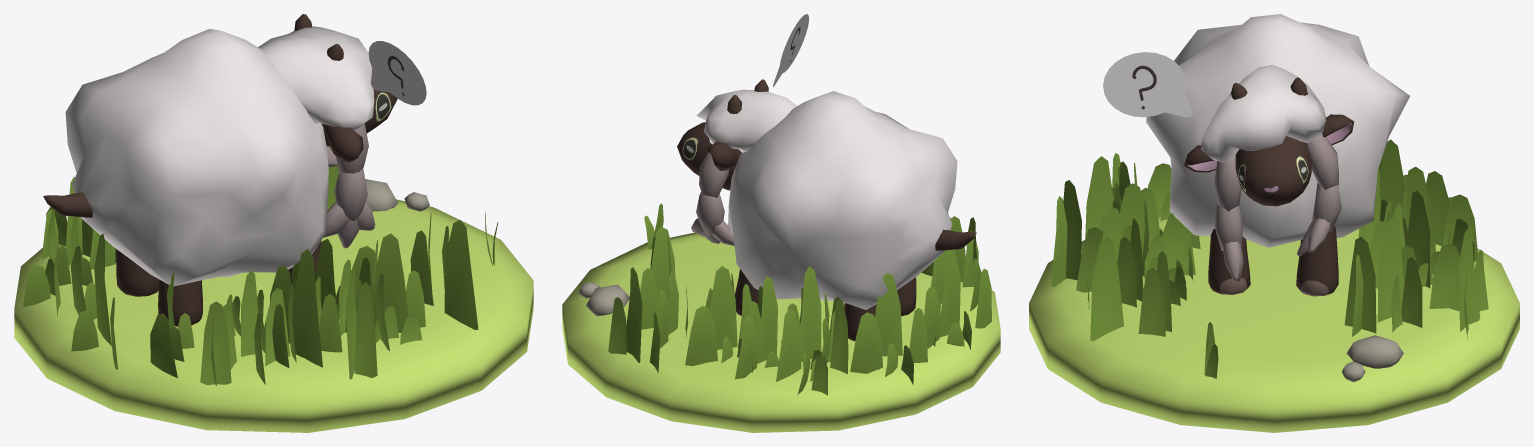
File: WoolooToy.fbx
3 renders of one model, left to right at view 1: azimuth 30°, elevation 25°; view 2: azimuth 150°, elevation 25°; view 3: azimuth 270°, elevation 25°, orthographic. The views are drawn at different scales.
Parts seen in each view (by area): view 1: polySurface22, base, pDisc102, bub, pDisc16, pDisc2, pDisc97, pDisc90, pDisc12, pDisc85, pDisc76, pDisc11 (+17 smaller); view 2: polySurface22, base, pDisc54, pDisc63, pDisc82, pDisc77, pDisc40, pDisc76, pDisc45, pDisc47, pDisc104, pDisc108 (+15 smaller); view 3: base, polySurface22, bub, pDisc102, pDisc110, pDisc108, pDisc106, pDisc104, pDisc16, pDisc115, pDisc92, pCube1 (+19 smaller).
Boxes of the visible parts, left/top/right/bottom form: polySurface22: left=43, top=14, right=397, bottom=326; base: left=14, top=199, right=533, bottom=432; pDisc102: left=444, top=219, right=478, bottom=329; bub: left=368, top=41, right=426, bottom=105; pDisc16: left=293, top=249, right=322, bottom=367; pDisc2: left=373, top=233, right=408, bottom=332; pDisc97: left=200, top=301, right=231, bottom=385; pDisc90: left=354, top=282, right=377, bottom=377; pDisc12: left=241, top=270, right=262, bottom=356; pDisc85: left=150, top=313, right=177, bottom=377; pDisc76: left=94, top=234, right=111, bottom=346; pDisc11: left=319, top=294, right=342, bottom=352; polySurface22: left=677, top=79, right=976, bottom=340; base: left=562, top=232, right=1000, bottom=432; pDisc54: left=710, top=266, right=737, bottom=349; pDisc63: left=800, top=266, right=821, bottom=361; pDisc82: left=875, top=272, right=902, bottom=356; pDisc77: left=850, top=312, right=882, bottom=373; pDisc40: left=685, top=306, right=717, bottom=366; pDisc76: left=939, top=249, right=960, bottom=337; pDisc45: left=757, top=276, right=777, bottom=363; pDisc47: left=776, top=309, right=801, bottom=381; pDisc104: left=626, top=267, right=642, bottom=362; pDisc108: left=651, top=227, right=675, bottom=301; base: left=1029, top=217, right=1519, bottom=432; polySurface22: left=1146, top=14, right=1409, bottom=296; bub: left=1103, top=52, right=1192, bottom=117; pDisc102: left=1090, top=237, right=1123, bottom=341; pDisc110: left=1377, top=216, right=1404, bottom=322; pDisc108: left=1344, top=237, right=1376, bottom=333; pDisc106: left=1429, top=244, right=1459, bottom=310; pDisc104: left=1458, top=226, right=1480, bottom=331; pDisc16: left=1085, top=156, right=1113, bottom=238; pDisc115: left=1138, top=268, right=1165, bottom=336; pDisc92: left=1063, top=180, right=1081, bottom=280; pCube1: left=1346, top=335, right=1403, bottom=368.
Size of the model in its own units: 303 by 201 by 300.
